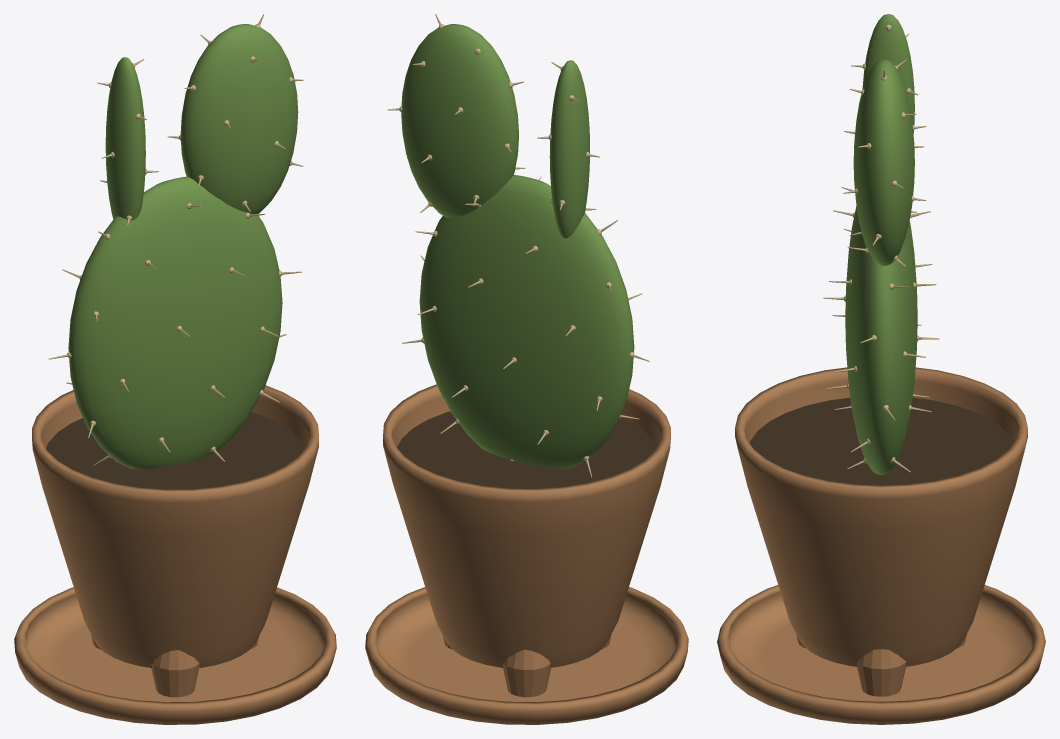
The model's file is A-NEW-20261027-POTTED-CACTUS-001_LOD1_R1.glb.
3 renders of one model, left to right at view 1: azimuth 30°, elevation 25°; view 2: azimuth 150°, elevation 25°; view 3: azimuth 270°, elevation 25°, orthographic.
Parts seen in each view (by area): view 1: main fleshy cactus pad, thick open pot, plain saucer, upper broad cactus pad, soil fill, young edge-on cactus pad, integral pot foot 2; view 2: main fleshy cactus pad, thick open pot, plain saucer, upper broad cactus pad, soil fill, young edge-on cactus pad, integral pot foot 1; view 3: thick open pot, plain saucer, soil fill, main fleshy cactus pad, upper broad cactus pad, young edge-on cactus pad, integral pot foot 0.
Boxes of the visible parts, bbox=[...] form: main fleshy cactus pad: bbox=[68, 176, 282, 469]; thick open pot: bbox=[32, 385, 318, 667]; plain saucer: bbox=[14, 587, 336, 724]; upper broad cactus pad: bbox=[180, 24, 298, 214]; soil fill: bbox=[46, 412, 305, 489]; young edge-on cactus pad: bbox=[105, 57, 145, 220]; integral pot foot 2: bbox=[151, 650, 199, 697]; main fleshy cactus pad: bbox=[419, 175, 634, 468]; thick open pot: bbox=[383, 384, 670, 667]; plain saucer: bbox=[365, 587, 688, 724]; upper broad cactus pad: bbox=[401, 24, 518, 218]; soil fill: bbox=[397, 411, 656, 488]; young edge-on cactus pad: bbox=[549, 60, 589, 238]; integral pot foot 1: bbox=[503, 649, 550, 697]; thick open pot: bbox=[735, 367, 1027, 666]; plain saucer: bbox=[717, 585, 1045, 724]; soil fill: bbox=[749, 397, 1013, 485]; main fleshy cactus pad: bbox=[845, 206, 917, 474]; upper broad cactus pad: bbox=[853, 59, 914, 265]; young edge-on cactus pad: bbox=[862, 14, 914, 133]; integral pot foot 0: bbox=[857, 649, 905, 696].
Bounding box in the file's own units: 0.236 × 0.5064 × 0.236.
